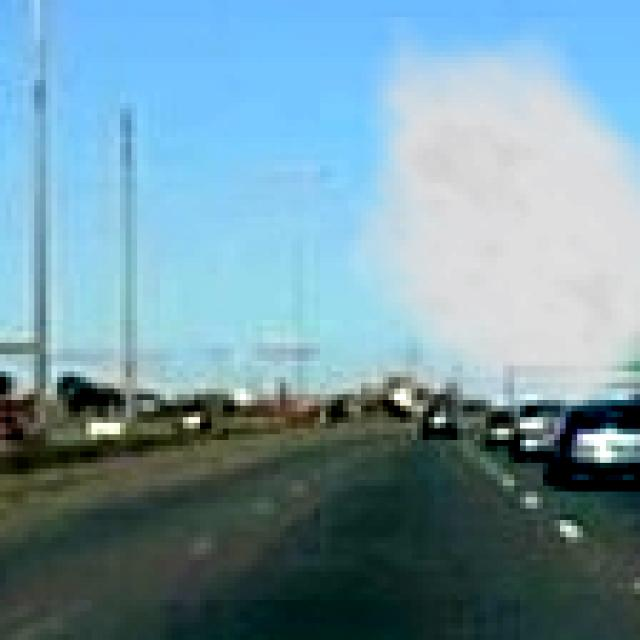smoke: (343, 11, 640, 428)
